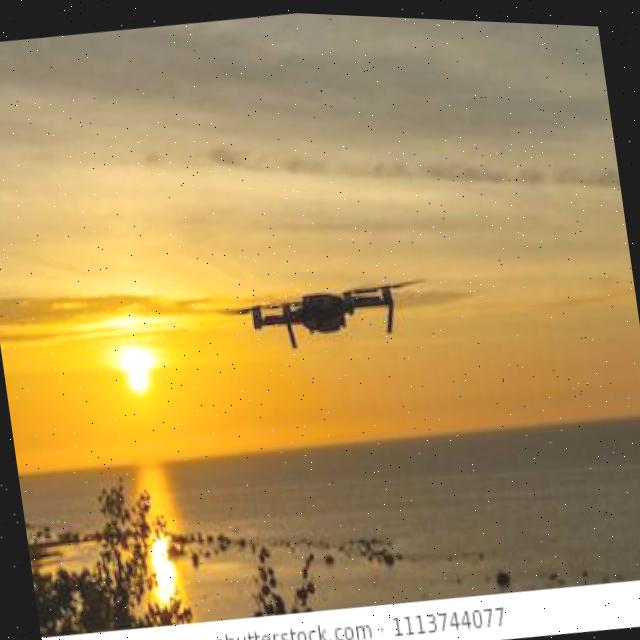drone: (192, 224, 450, 381)
